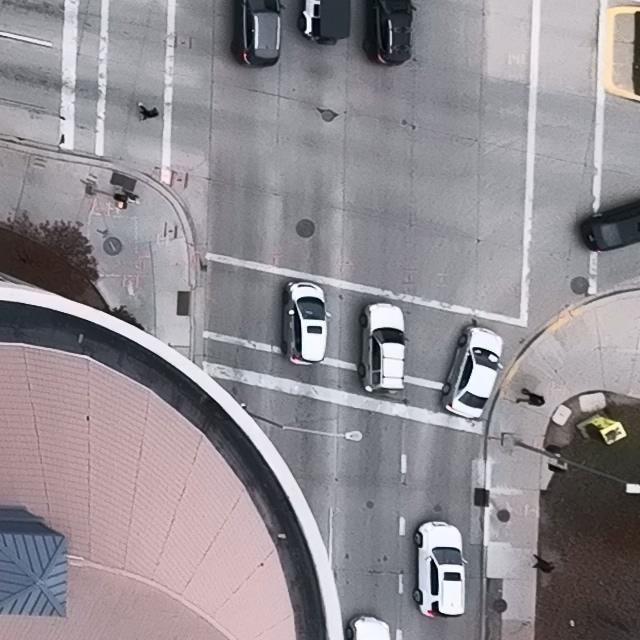car: (440, 325, 503, 419), (412, 520, 467, 618), (358, 302, 410, 393), (283, 281, 331, 364), (363, 0, 417, 66), (232, 0, 284, 65), (580, 200, 640, 251), (346, 613, 391, 640)
